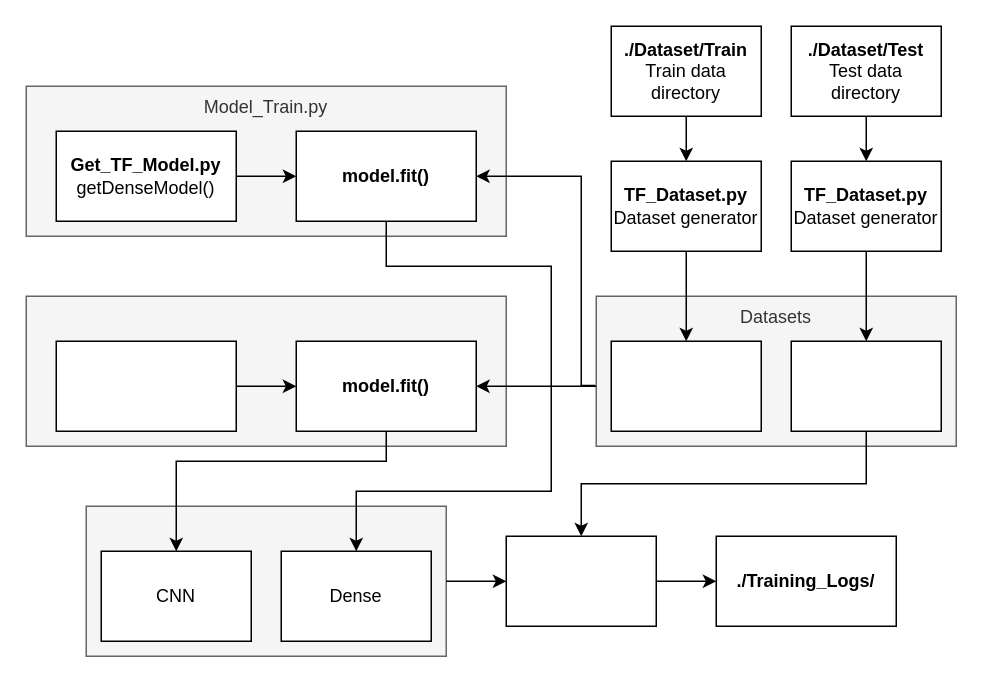
The diagram is 983 pixels wide and 683 high, and some of its shapes have lost their labels. Each missing label, with the box of its shape:
Get_TF_Model.py getCNN(): (55, 340, 236, 431)
Model_Eval.py: (505, 535, 656, 626)
Model_Train_CNN.py: (25, 295, 506, 446)
Models: (85, 505, 446, 656)
Test Partition: (790, 340, 941, 431)
Train Partition: (610, 340, 761, 431)
